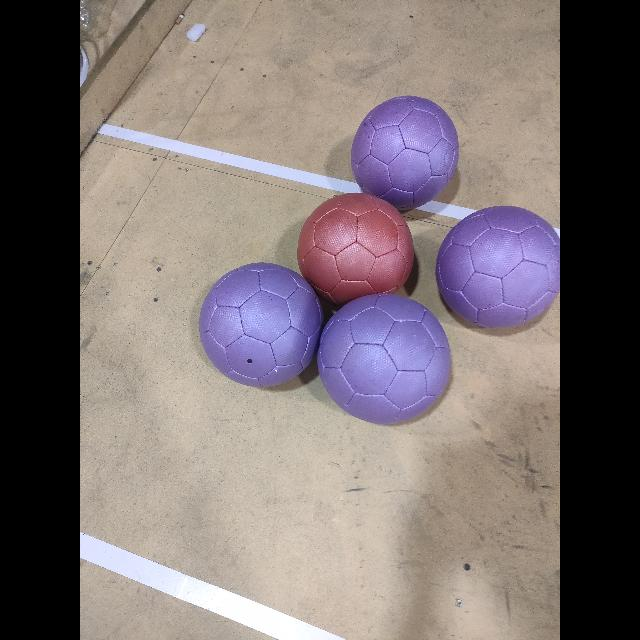P: (318, 294, 450, 424), (200, 262, 322, 386), (435, 206, 559, 326), (351, 96, 459, 210)
R: (297, 193, 413, 303)
